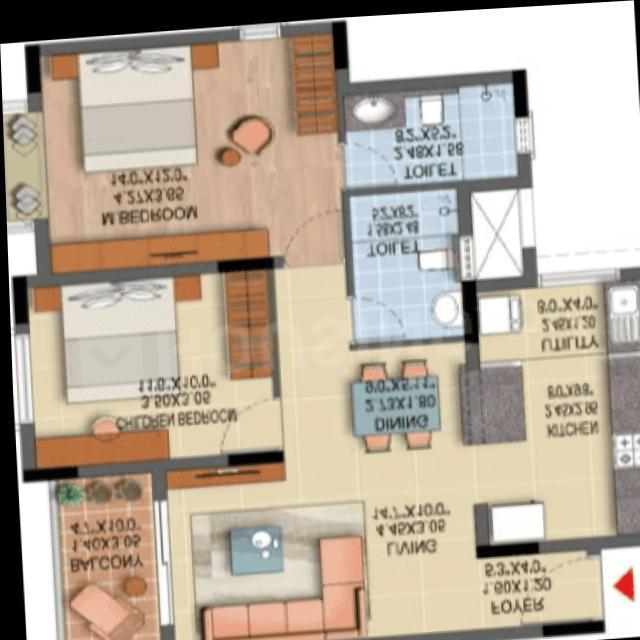Balcony-Sitout: (40, 453, 170, 640)
Bedroom: (12, 256, 284, 478)
Bedroom with Toilet: (28, 18, 530, 272)
Dining: (345, 352, 440, 452)
Enterance-Foyer: (474, 550, 640, 638)
Kitchen: (453, 266, 640, 557)
Living: (148, 442, 475, 640)
Toilet: (337, 67, 533, 197), (339, 177, 477, 347)
